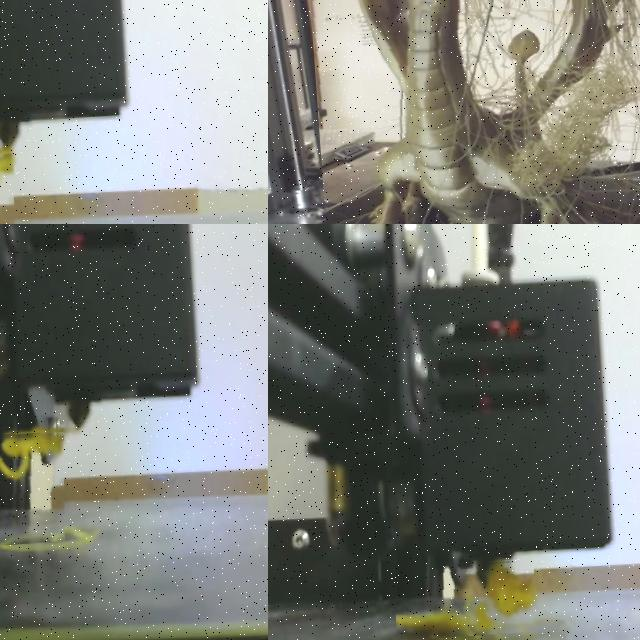spaghetti: (303, 0, 640, 224), (396, 561, 535, 636), (0, 432, 63, 479)
